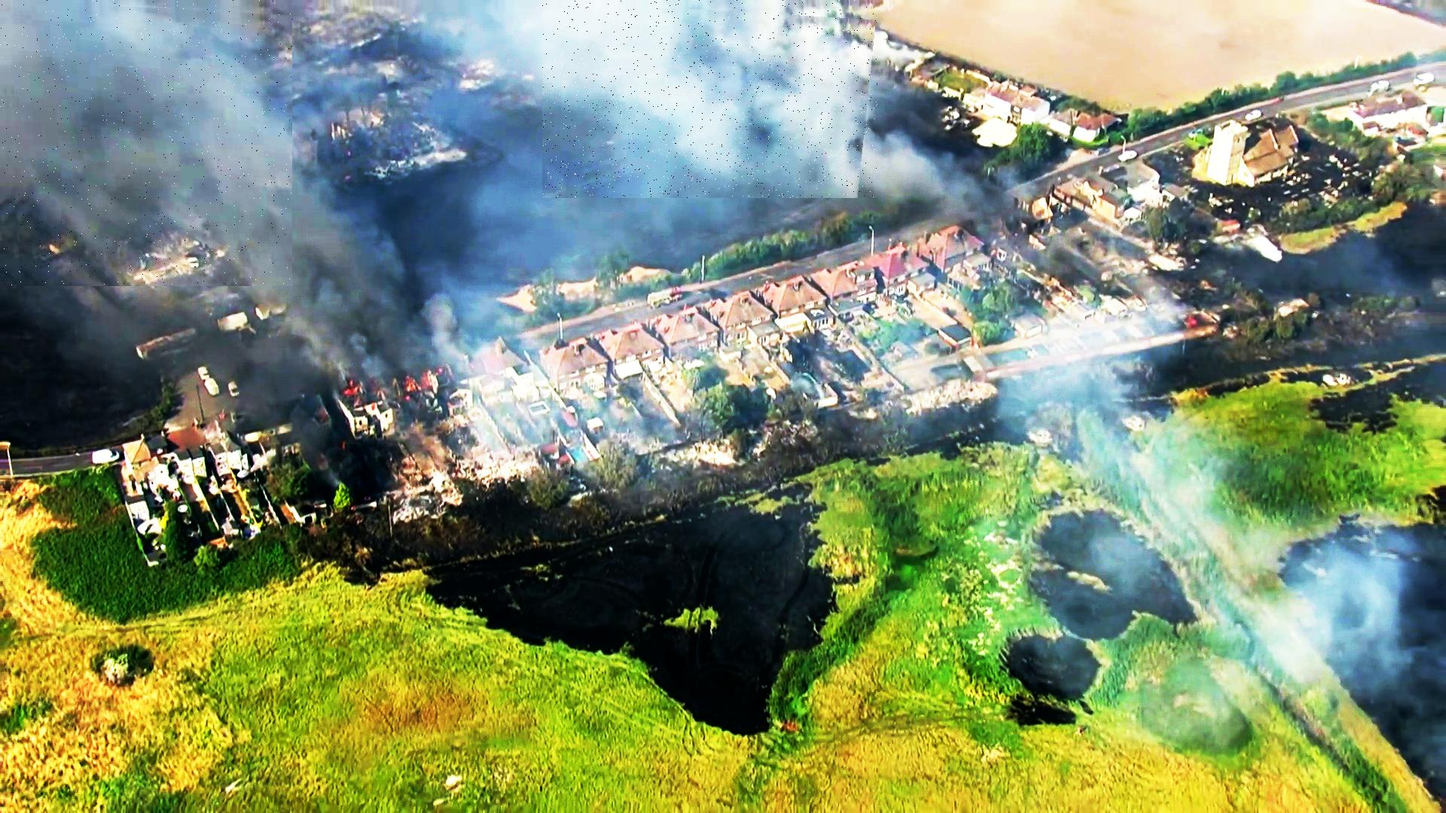smoke: (0, 0, 292, 286), (543, 0, 878, 198)
